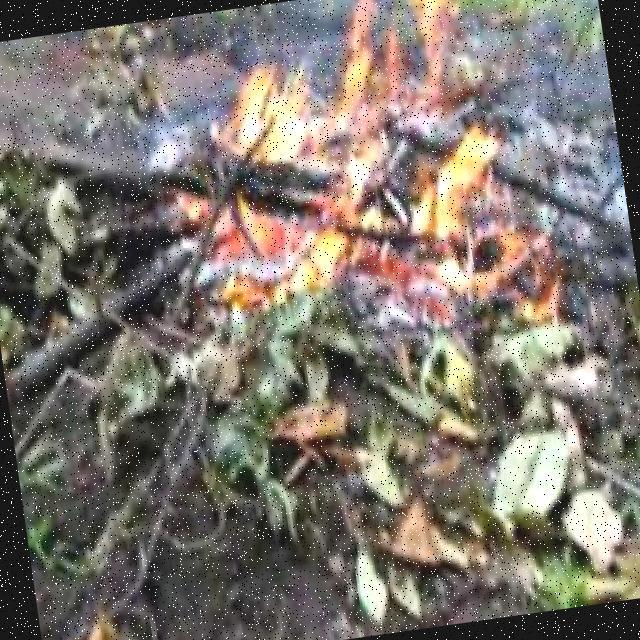Fire: (153, 0, 553, 330)
